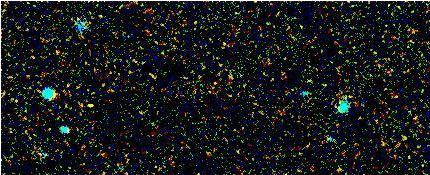star: (75, 89, 105, 119)
